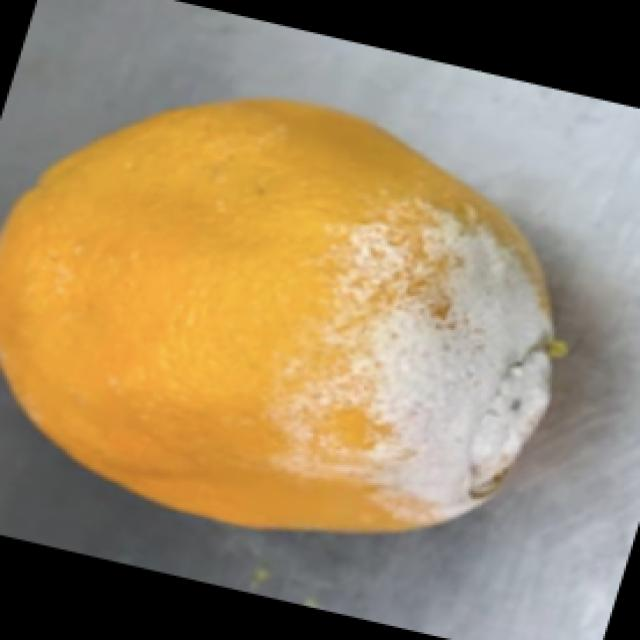sedikit_busuk: (0, 101, 568, 541)
